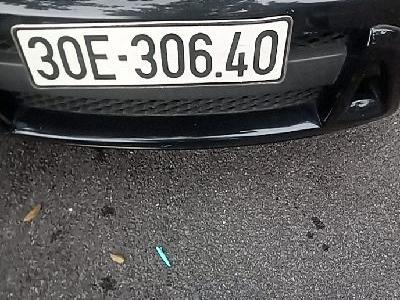number: (13, 22, 287, 88)
